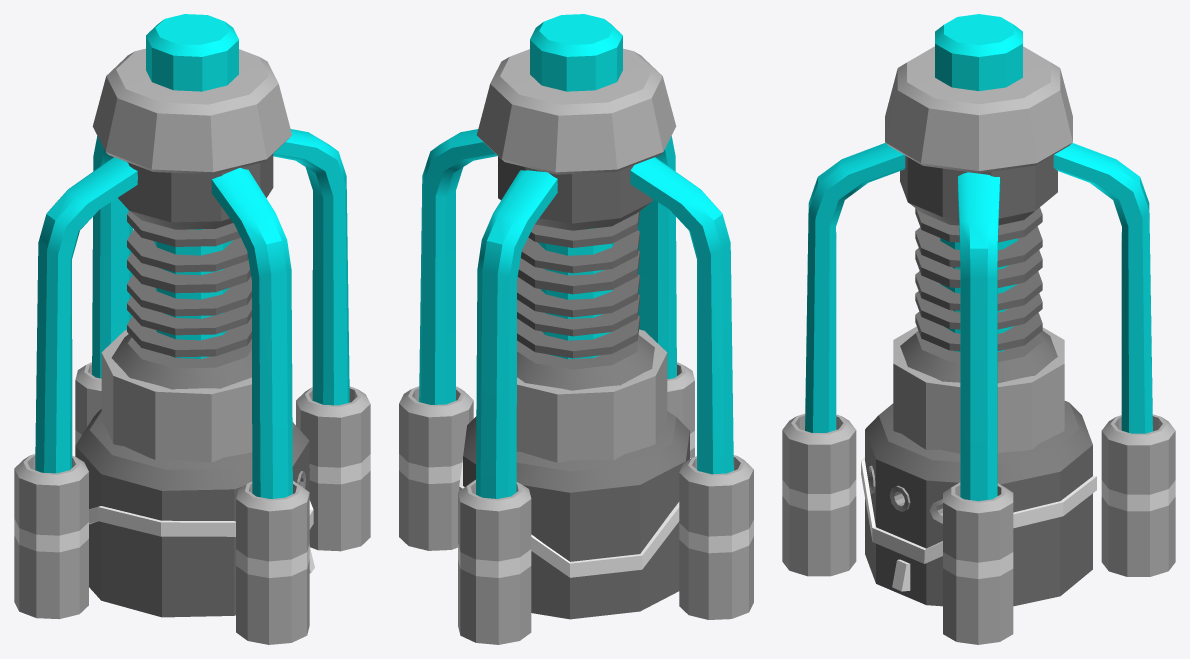
File: PowerSource.fbx
3 views of the same model, side by side, from view 1: azimuth 30°, elevation 25°; view 2: azimuth 150°, elevation 25°; view 3: azimuth 270°, elevation 25° (orthographic).
Parts seen in each view (by area): view 1: group3; view 2: group3; view 3: group3.
Boxes of the visible parts, <box> form: group3: <box>14,14,370,644</box>; group3: <box>399,14,753,644</box>; group3: <box>782,14,1175,644</box>.
Size of the model in its own units: 158 by 236 by 158.
